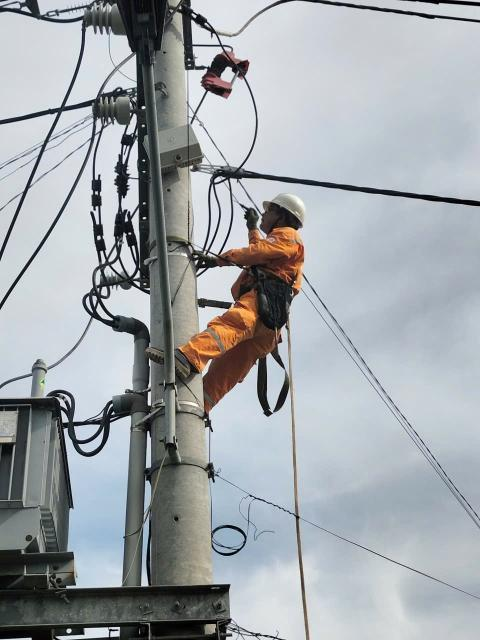gloves: (180, 249, 222, 273), (239, 207, 263, 237)
harness: (240, 272, 306, 317)
helmet: (258, 188, 317, 232)
shoes: (139, 338, 197, 389)
